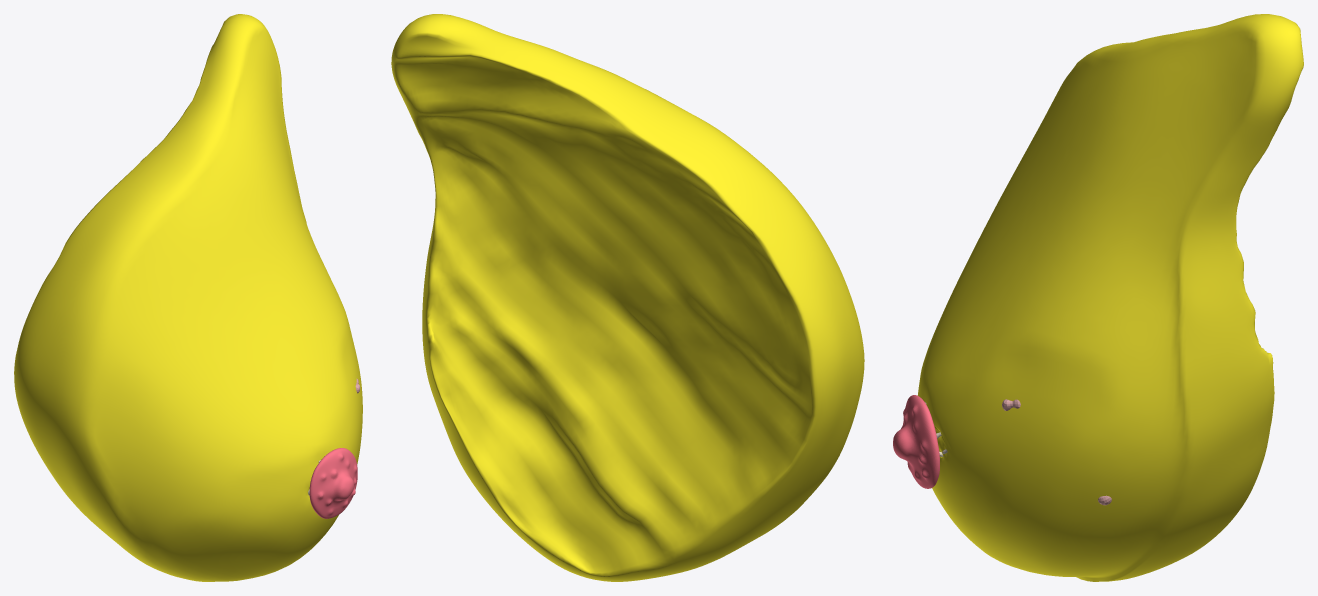
Rendered from density100.glb.
The picture shows the model from 3 angles, left to right: view 1: azimuth 30°, elevation 25°; view 2: azimuth 150°, elevation 25°; view 3: azimuth 270°, elevation 25°; orthographic projection. The views are drawn at different scales.
Visible parts, largest first — view 1: VH_F_fat_L, VH_F_areola_L; view 2: VH_F_fat_L; view 3: VH_F_fat_L, VH_F_areola_L, VH_F_nipple_L.
Boxes of the visible parts, <box> form: VH_F_fat_L: <box>14,14,362,581</box>; VH_F_areola_L: <box>309,448,357,518</box>; VH_F_fat_L: <box>391,14,864,581</box>; VH_F_fat_L: <box>917,14,1303,581</box>; VH_F_areola_L: <box>901,395,939,488</box>; VH_F_nipple_L: <box>893,427,913,464</box>.
Size of the model in its own units: 0.1282 by 0.1819 by 0.1119.
